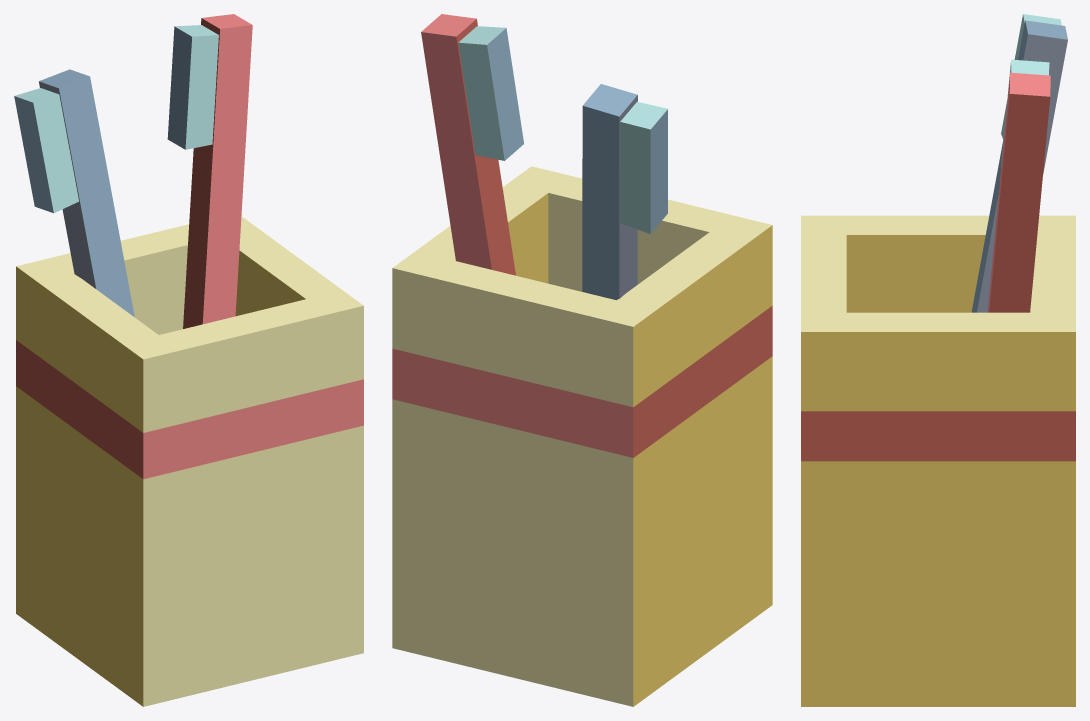
The model's file is Toothbrush and Holder.fbx.
3 views of the same model, side by side, from view 1: azimuth 30°, elevation 25°; view 2: azimuth 150°, elevation 25°; view 3: azimuth 270°, elevation 25° (orthographic). The views are drawn at different scales.
Visible parts, largest first — view 1: Toothbrush and Holder; view 2: Toothbrush and Holder; view 3: Toothbrush and Holder.
Part boxes in pixels (<box>): Toothbrush and Holder: <box>14,14,363,706</box>; Toothbrush and Holder: <box>392,14,772,706</box>; Toothbrush and Holder: <box>801,14,1075,706</box>.
Size of the model in its own units: 15.44 by 36.33 by 14.84.
